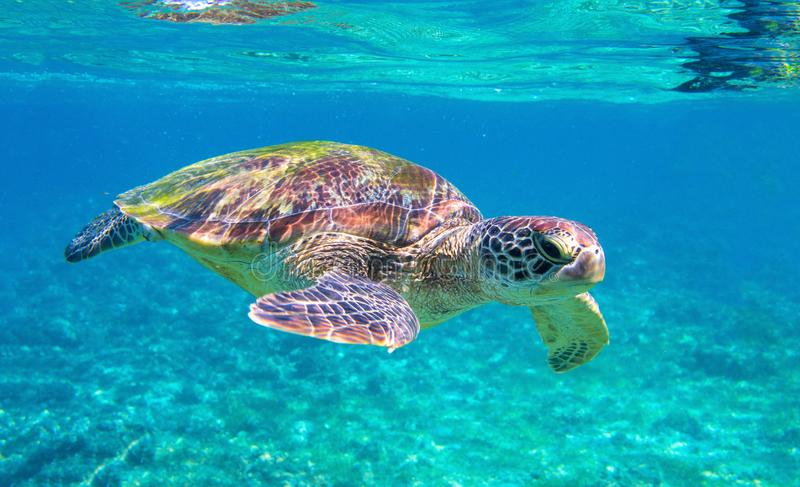turtle: (64, 130, 611, 374)
